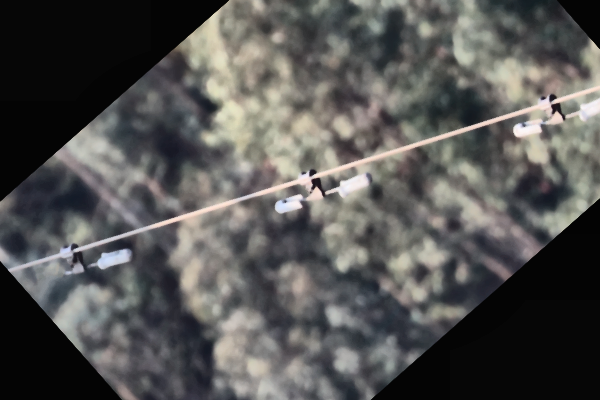damper: (272, 166, 374, 217), (506, 88, 600, 142)
damper_defect: (55, 240, 134, 281)
